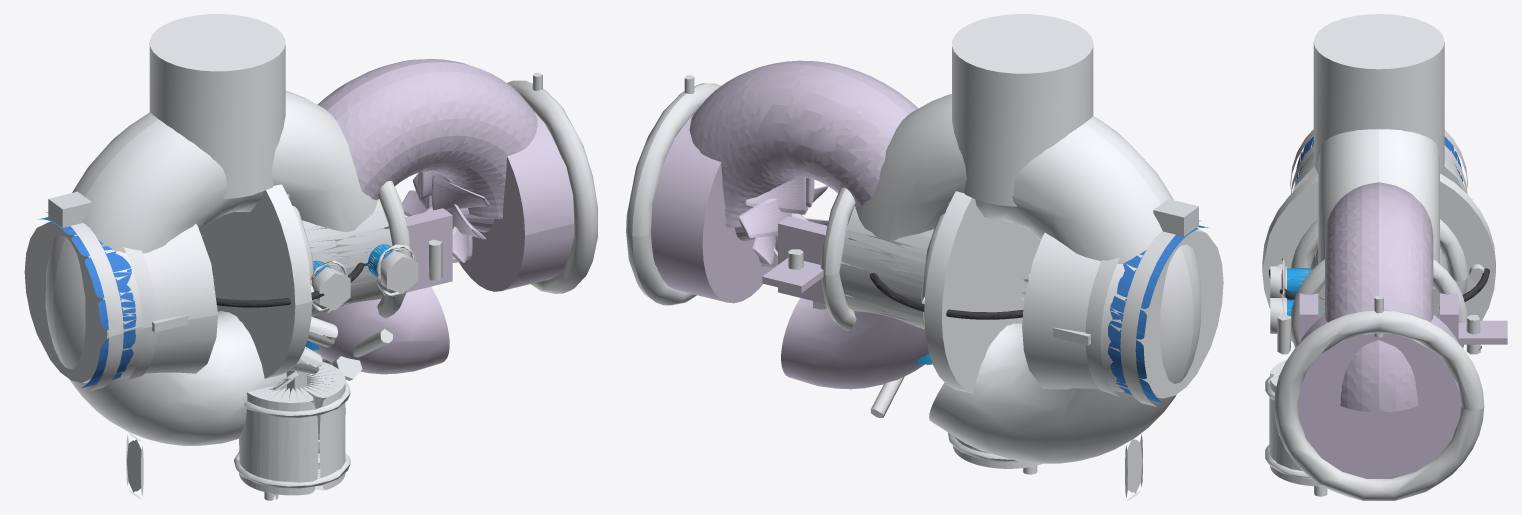
Rendered from turbo_single.glb.
3 views of the same model, side by side, from view 1: azimuth 30°, elevation 25°; view 2: azimuth 150°, elevation 25°; view 3: azimuth 270°, elevation 25° (orthographic). The views are drawn at different scales.
Visible parts, largest first — view 1: Anti_Surge_Ported_Air_Inlet_Snout, Divided_TwinScroll_Turbine_Volute, Inconel_Foil_Turbine_Thermal_Blanket, Adjustable_Wastegate_Linkage_Rod, DualPort_Wastegate_Canister, CHRA_Bearing_Center_Housing, Silicone_Inlet_Coupler_Boot, AN4_Hex_Nut_Body, Backplate_Viton_O_Ring; view 2: Anti_Surge_Ported_Air_Inlet_Snout, Divided_TwinScroll_Turbine_Volute, Inconel_Foil_Turbine_Thermal_Blanket, Adjustable_Wastegate_Linkage_Rod, CHRA_Bearing_Center_Housing, Silicone_Inlet_Coupler_Boot, AN4_Hex_Nut_Body, Backplate_Viton_O_Ring, DualPort_Wastegate_Canister; view 3: Anti_Surge_Ported_Air_Inlet_Snout, Adjustable_Wastegate_Linkage_Rod, Inconel_Foil_Turbine_Thermal_Blanket, Divided_TwinScroll_Turbine_Volute, DualPort_Wastegate_Canister, CHRA_Bearing_Center_Housing, AN10_Turbo_Oil_Drain_Fitting, Backplate_Viton_O_Ring, Silicone_Inlet_Coupler_Boot.
Boxes of the visible parts, x1,y1,x2,y2 form: Anti_Surge_Ported_Air_Inlet_Snout: [24, 14, 388, 445]; Divided_TwinScroll_Turbine_Volute: [310, 111, 574, 374]; Inconel_Foil_Turbine_Thermal_Blanket: [310, 59, 537, 284]; Adjustable_Wastegate_Linkage_Rod: [46, 72, 597, 488]; DualPort_Wastegate_Canister: [239, 316, 345, 495]; CHRA_Bearing_Center_Housing: [302, 199, 392, 316]; Silicone_Inlet_Coupler_Boot: [38, 217, 136, 388]; AN4_Hex_Nut_Body: [126, 235, 319, 500]; Backplate_Viton_O_Ring: [216, 262, 364, 307]; Anti_Surge_Ported_Air_Inlet_Snout: [848, 14, 1223, 463]; Divided_TwinScroll_Turbine_Volute: [651, 114, 928, 389]; Inconel_Foil_Turbine_Thermal_Blanket: [689, 60, 926, 312]; Adjustable_Wastegate_Linkage_Rod: [626, 75, 1201, 461]; CHRA_Bearing_Center_Housing: [839, 206, 934, 329]; Silicone_Inlet_Coupler_Boot: [1107, 225, 1208, 403]; AN4_Hex_Nut_Body: [1019, 264, 1142, 500]; Backplate_Viton_O_Ring: [869, 273, 1023, 319]; DualPort_Wastegate_Canister: [952, 436, 1042, 468]; Anti_Surge_Ported_Air_Inlet_Snout: [1262, 14, 1495, 342]; Adjustable_Wastegate_Linkage_Rod: [1265, 129, 1484, 500]; Inconel_Foil_Turbine_Thermal_Blanket: [1325, 182, 1433, 411]; Divided_TwinScroll_Turbine_Volute: [1298, 293, 1507, 478]; DualPort_Wastegate_Canister: [1269, 359, 1322, 486]; CHRA_Bearing_Center_Housing: [1310, 246, 1448, 319]; AN10_Turbo_Oil_Drain_Fitting: [1287, 268, 1322, 315]; Backplate_Viton_O_Ring: [1269, 268, 1489, 308]; Silicone_Inlet_Coupler_Boot: [1295, 136, 1462, 183].
Size of the model in its own units: 0.3692 by 0.3096 by 0.1634.
